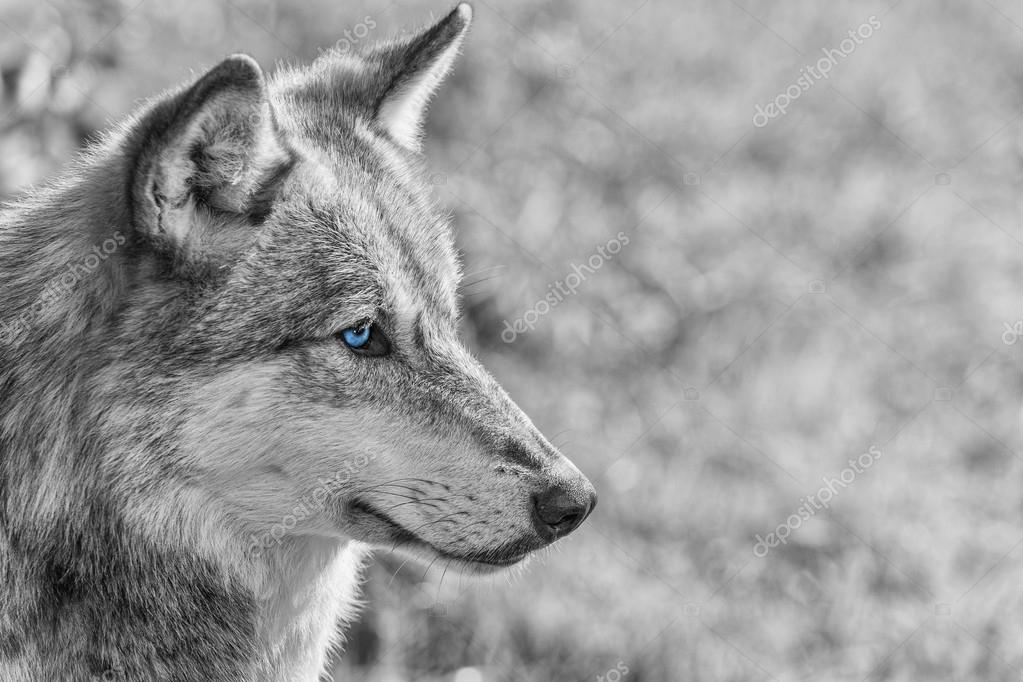Lobo: (103, 7, 632, 643)
